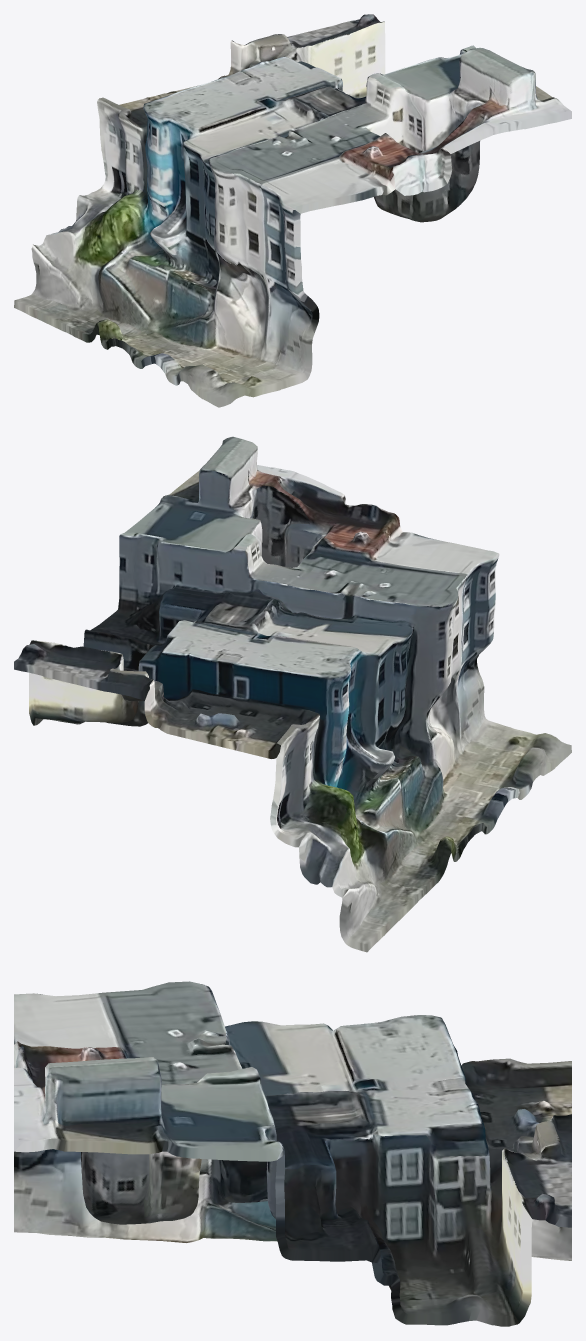
Rendered from z20-167746-405194-h0-yup-uvflip-v3-world.glb.
3 views of the same model, one above another, from view 1: azimuth 30°, elevation 25°; view 2: azimuth 150°, elevation 25°; view 3: azimuth 270°, elevation 25° (orthographic). The views are drawn at different scales.
Bounding box in the file's own units: 30.2 × 24.24 × 30.32.
Materials: 1 (1 with a texture image).
